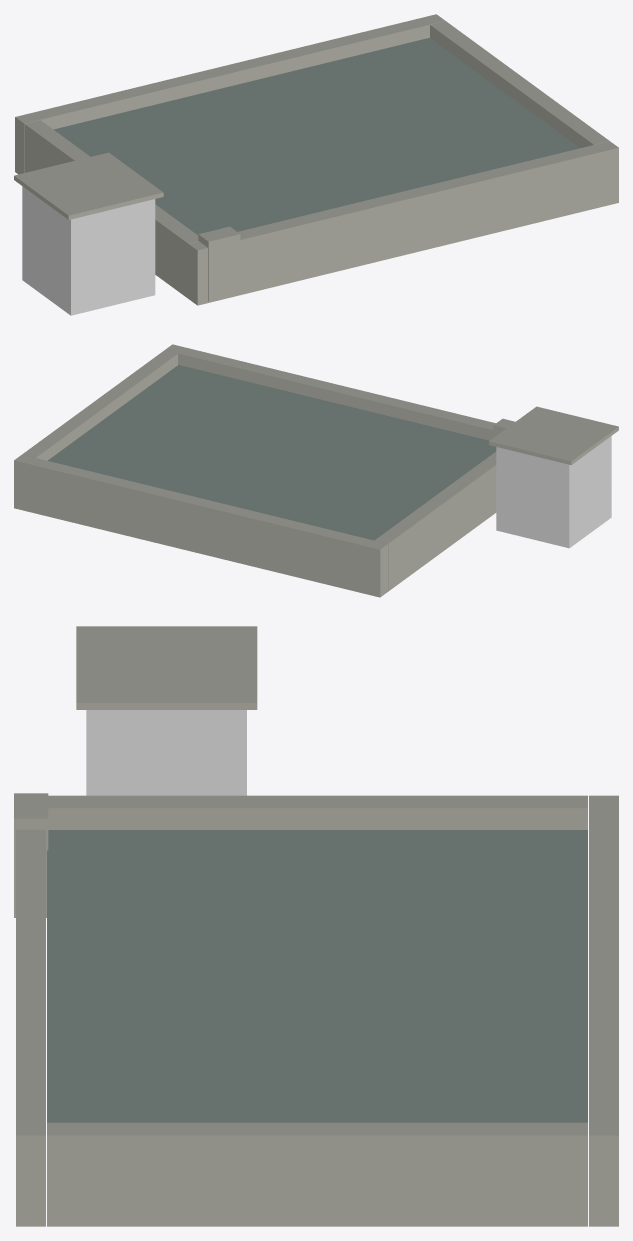
The model's file is SM_Balsa_v3_Escalerilla_LOD1.fbx.
3 views of the same model, one above another, from view 1: azimuth 30°, elevation 25°; view 2: azimuth 150°, elevation 25°; view 3: azimuth 270°, elevation 25° (orthographic). The views are drawn at different scales.
Visible parts, largest first — view 1: SM_huerta_nules_v13_LOD1; view 2: SM_huerta_nules_v13_LOD1; view 3: SM_huerta_nules_v13_LOD1.
Part boxes in pixels (x1=…): SM_huerta_nules_v13_LOD1: x1=14, y1=14, x2=618, y2=315; SM_huerta_nules_v13_LOD1: x1=14, y1=344, x2=618, y2=597; SM_huerta_nules_v13_LOD1: x1=14, y1=626, x2=618, y2=1226.
Bounding box in the file's own units: 10.1 × 1.88 × 6.02.
